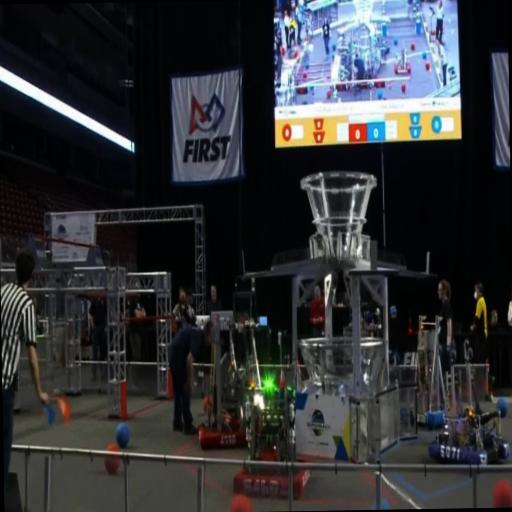robot: (231, 323, 314, 501), (427, 362, 510, 478), (195, 315, 256, 447), (402, 308, 465, 432)
